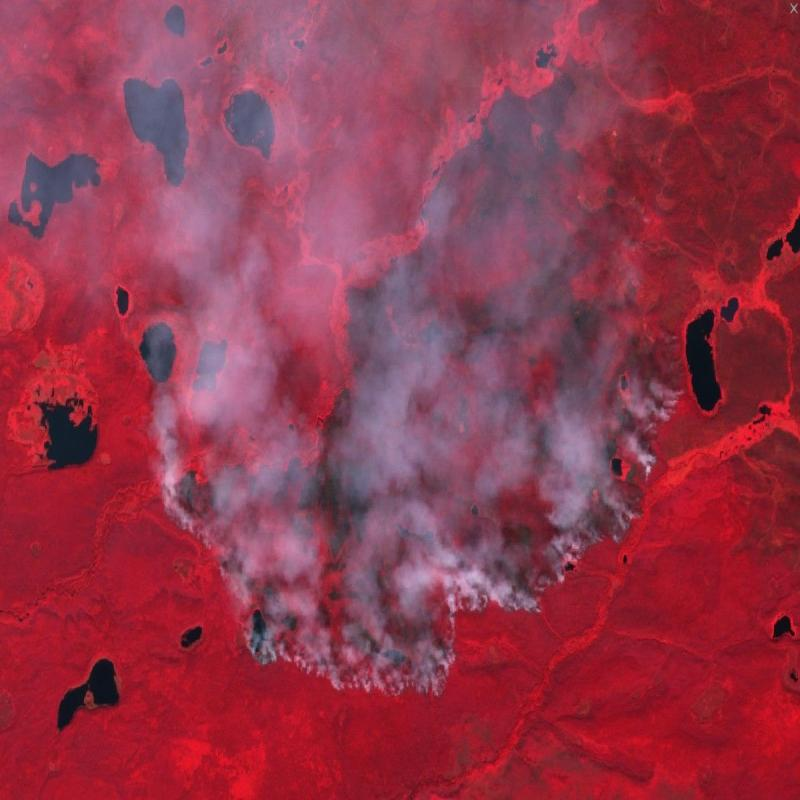fire: (149, 332, 688, 685)
